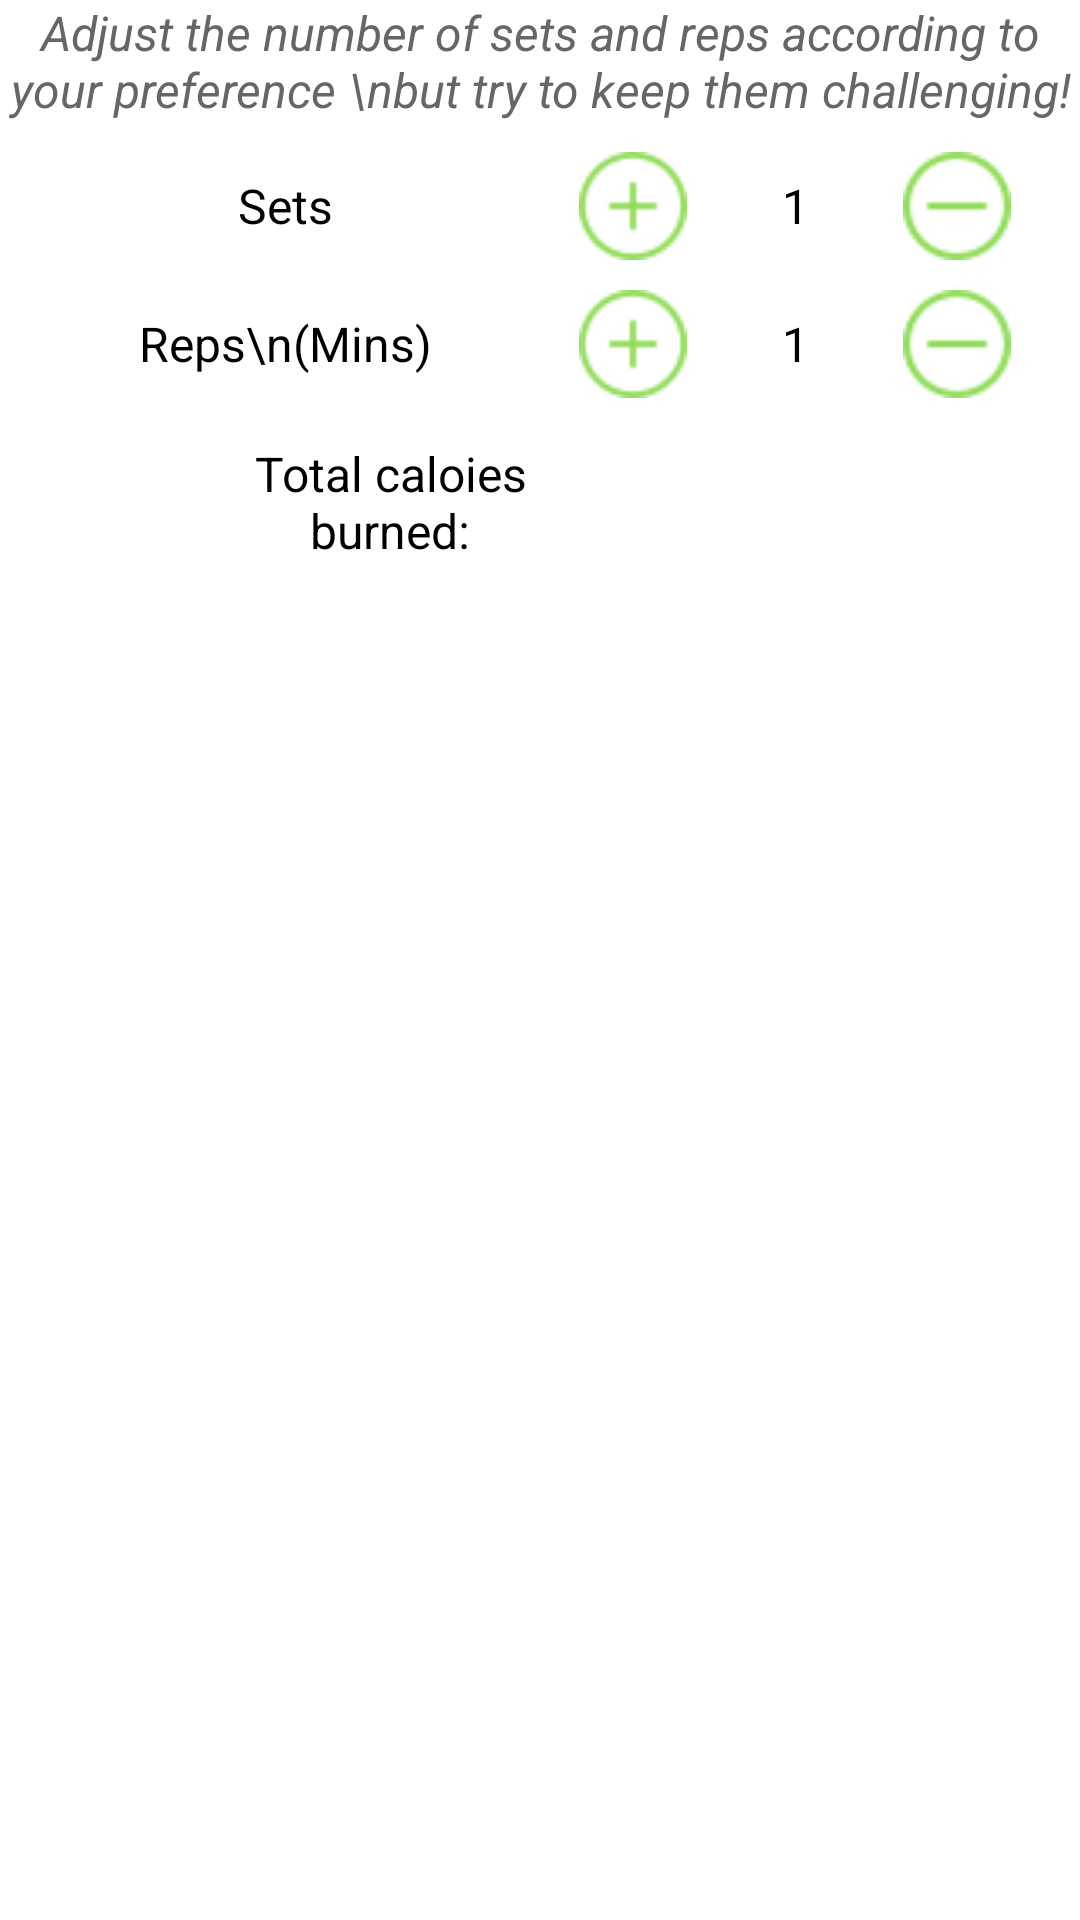

Screen size 1080 × 1920. Icon name, then its box in pixels as (x1, y1, x2, y2):
plu: (579, 152, 687, 260), (579, 290, 687, 398)
sub: (903, 152, 1011, 260), (903, 290, 1011, 398)
